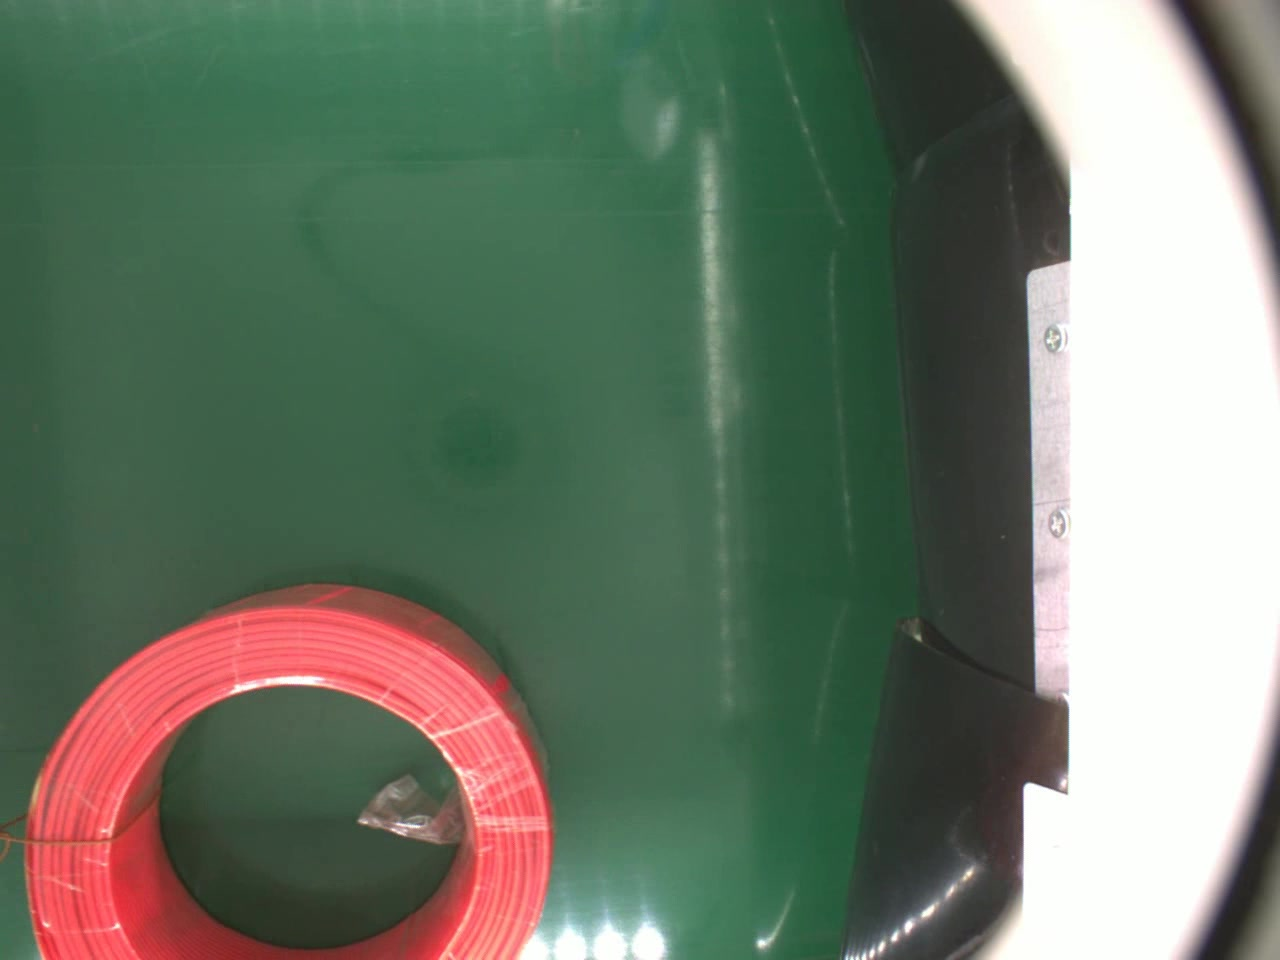red: (26, 581, 556, 960)
